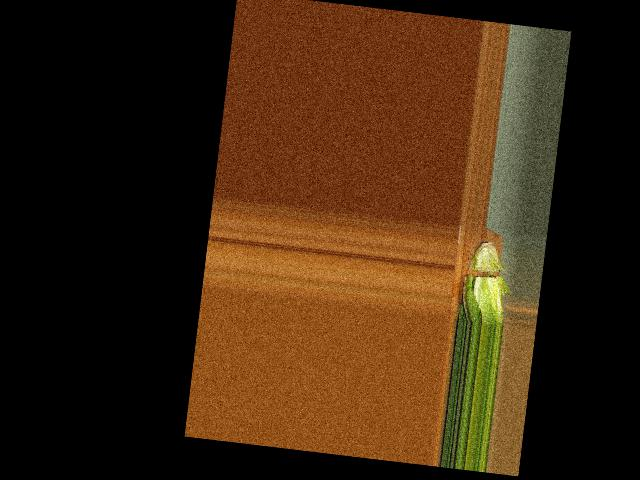lettuce: (454, 240, 514, 324)
